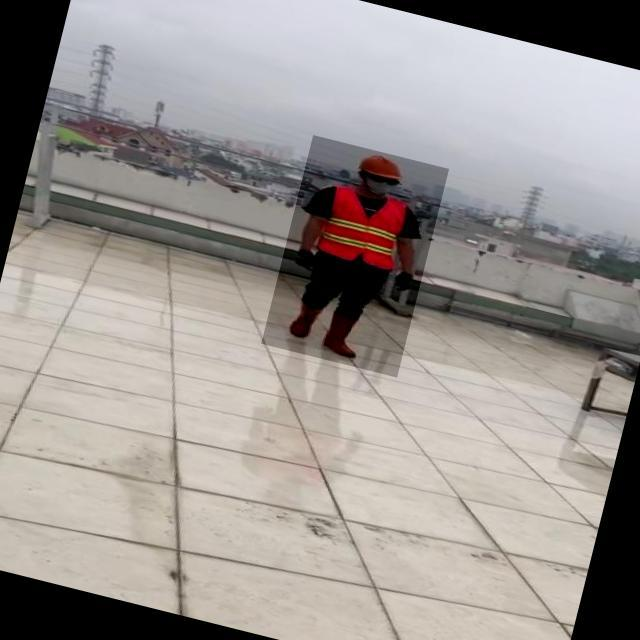Gloves: (291, 245, 325, 276), (387, 265, 414, 293)
Helmet: (353, 148, 410, 184)
Human: (261, 135, 449, 377)
Safety Boot: (322, 309, 361, 357), (290, 297, 323, 340)
Safety Vest: (317, 184, 412, 271)
